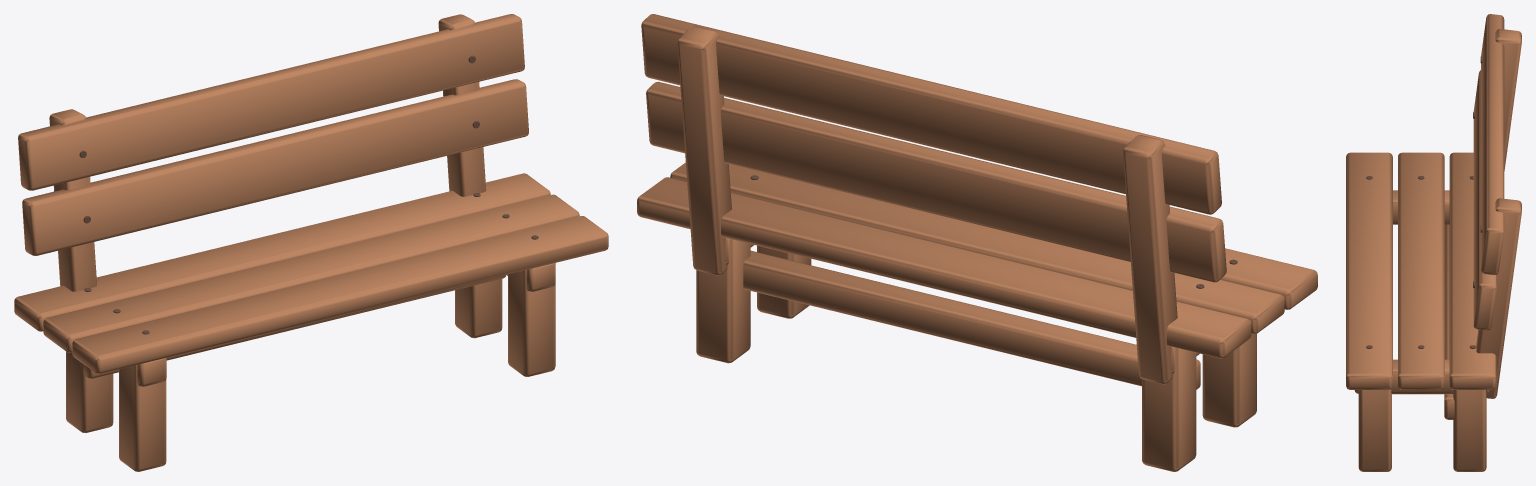
Rendered from bank-sirtlikli.glb.
3 renders of one model, left to right at view 1: azimuth 30°, elevation 25°; view 2: azimuth 150°, elevation 25°; view 3: azimuth 270°, elevation 25°, orthographic. The views are drawn at different scales.
Parts seen in each view (by area): view 1: 67P_BANK_SIRTLIKLI_01_BODY; view 2: 67P_BANK_SIRTLIKLI_01_BODY; view 3: 67P_BANK_SIRTLIKLI_01_BODY, 67P_BANK_SIRTLIKLI_01_FASTENERS.
Part boxes in pixels (bbox=[...]): 67P_BANK_SIRTLIKLI_01_BODY: bbox=[14, 14, 608, 471]; 67P_BANK_SIRTLIKLI_01_BODY: bbox=[637, 14, 1317, 471]; 67P_BANK_SIRTLIKLI_01_BODY: bbox=[1346, 14, 1521, 471]; 67P_BANK_SIRTLIKLI_01_FASTENERS: bbox=[1366, 56, 1482, 348].
Bounding box in the file's own units: 1.9 × 1.05 × 0.6316.
